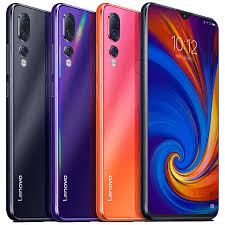lenovo: (139, 1, 219, 223)
